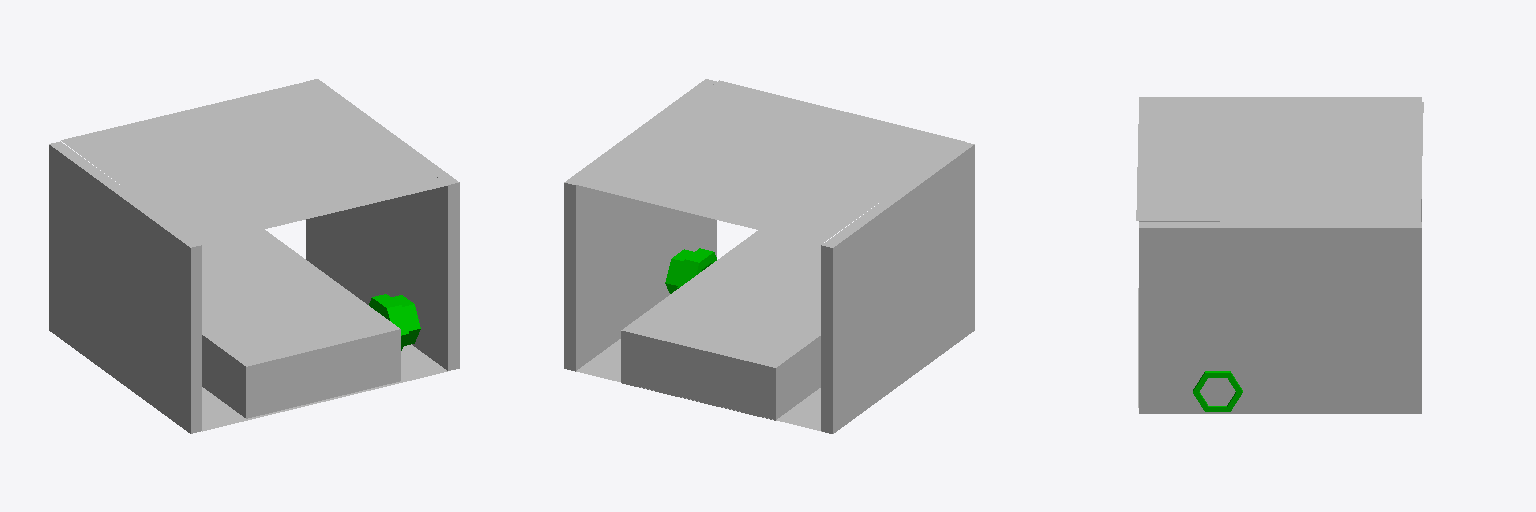
3 renders of one model, left to right at view 1: azimuth 30°, elevation 25°; view 2: azimuth 150°, elevation 25°; view 3: azimuth 270°, elevation 25°, orthographic.
Visible parts, largest first — view 1: Plane.001, Cube.001, Cube, Cube.002, Plane, RCP_dokan; view 2: Plane.001, Cube.001, Cube, Cube.002, Plane, RCP_dokan; view 3: Cube.002, Plane.001, Cube.001, RCP_dokan.
Boxes of the visible parts, x1,y1,x2,y2 form: Plane.001: [61, 81, 447, 244]; Cube.001: [49, 141, 201, 433]; Cube: [201, 229, 400, 418]; Cube.002: [306, 79, 459, 370]; Plane: [202, 344, 447, 431]; RCP_dokan: [369, 294, 420, 350]; Plane.001: [575, 80, 964, 244]; Cube.001: [821, 142, 974, 433]; Cube: [621, 230, 823, 420]; Cube.002: [564, 79, 716, 371]; Plane: [576, 339, 821, 431]; RCP_dokan: [665, 248, 716, 293]; Cube.002: [1139, 222, 1421, 413]; Plane.001: [1136, 101, 1423, 222]; Cube.001: [1139, 97, 1421, 221]; RCP_dokan: [1193, 371, 1242, 411].
Bounding box in the file's own units: 10.78 × 7.1 × 9.87.